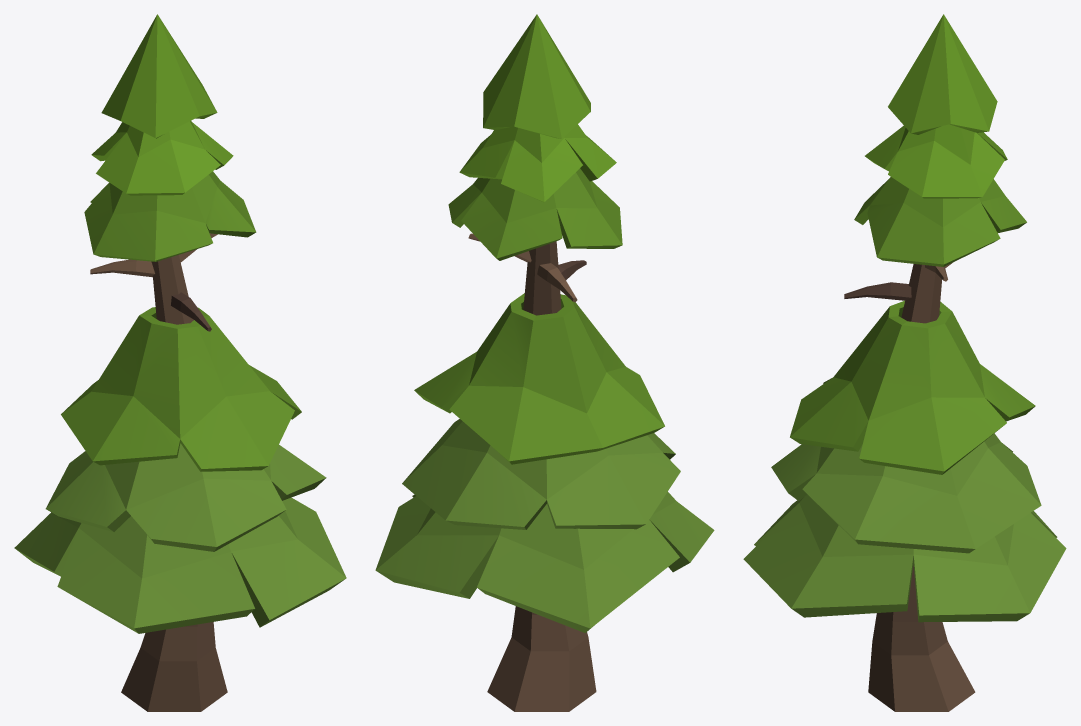
The model's file is tree_pine_3.fbx.
3 renders of one model, left to right at view 1: azimuth 30°, elevation 25°; view 2: azimuth 150°, elevation 25°; view 3: azimuth 270°, elevation 25°, orthographic. The views are drawn at different scales.
Visible parts, largest first — view 1: tree_pine_3; view 2: tree_pine_3; view 3: tree_pine_3.
Boxes of the visible parts, x1,y1,x2,y2 form: tree_pine_3: (14,14,346,711); tree_pine_3: (375,14,714,711); tree_pine_3: (743,14,1066,711).
Size of the model in its own units: 570 by 1344 by 583.
